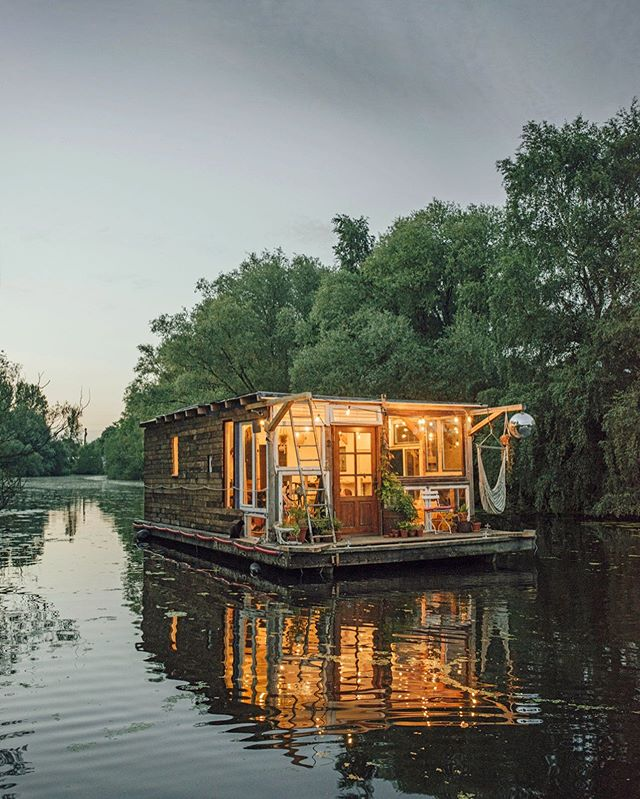building: (134, 398, 535, 566)
river: (9, 487, 640, 799)
sky: (1, 1, 633, 249)
vegetation: (156, 138, 640, 388)
